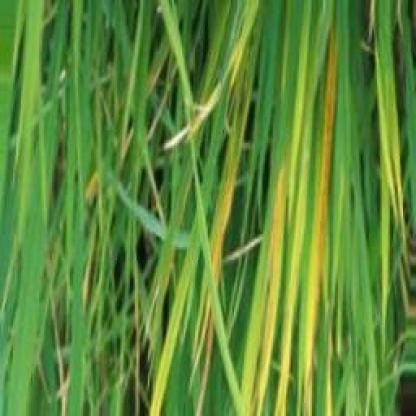Tungro: (195, 102, 261, 388), (299, 27, 346, 415), (248, 164, 292, 416)
